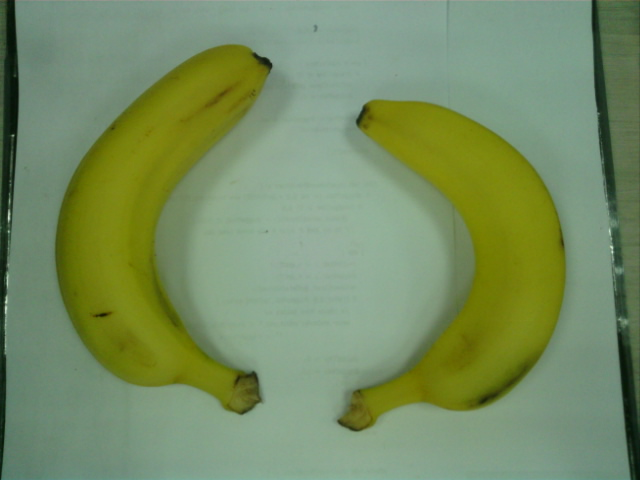normal_banana: (56, 45, 272, 416), (339, 100, 565, 428)
